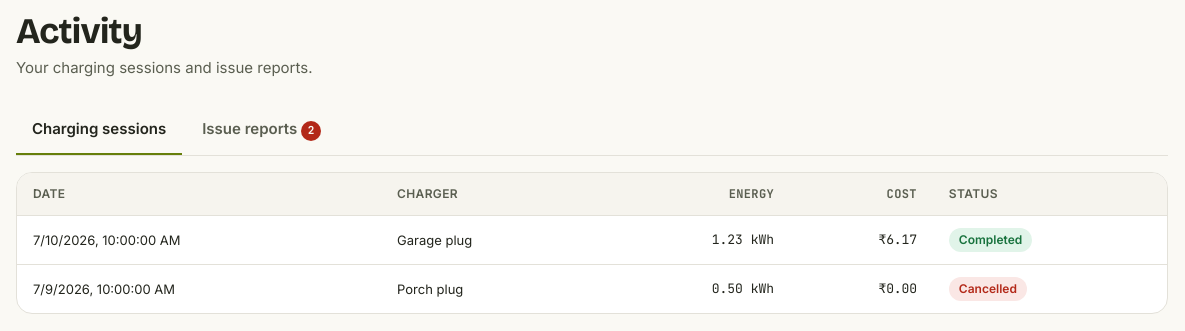
Test case: Activity — issue reports tab › lists disputes with status badges and resolution copy
Expected: the text "Garage plug" is shown, [381,216,598,265]
Click the tab "Issue reports 2" at {"x": 262, "y": 130}, box [186,105,337,155]
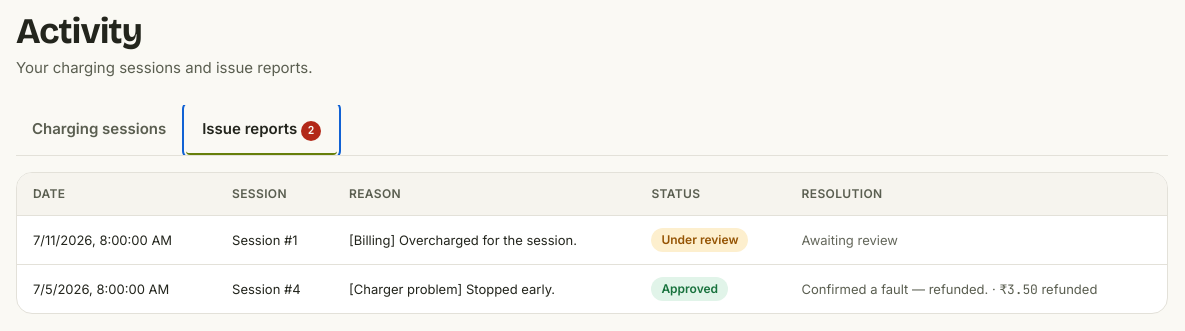
Now the text "Under review" is shown, box [651,228,748,252]
Now the text "Approved" is shown, box [651,277,728,301]
Now the text "Awaiting review" is shown, box [802,232,898,248]
